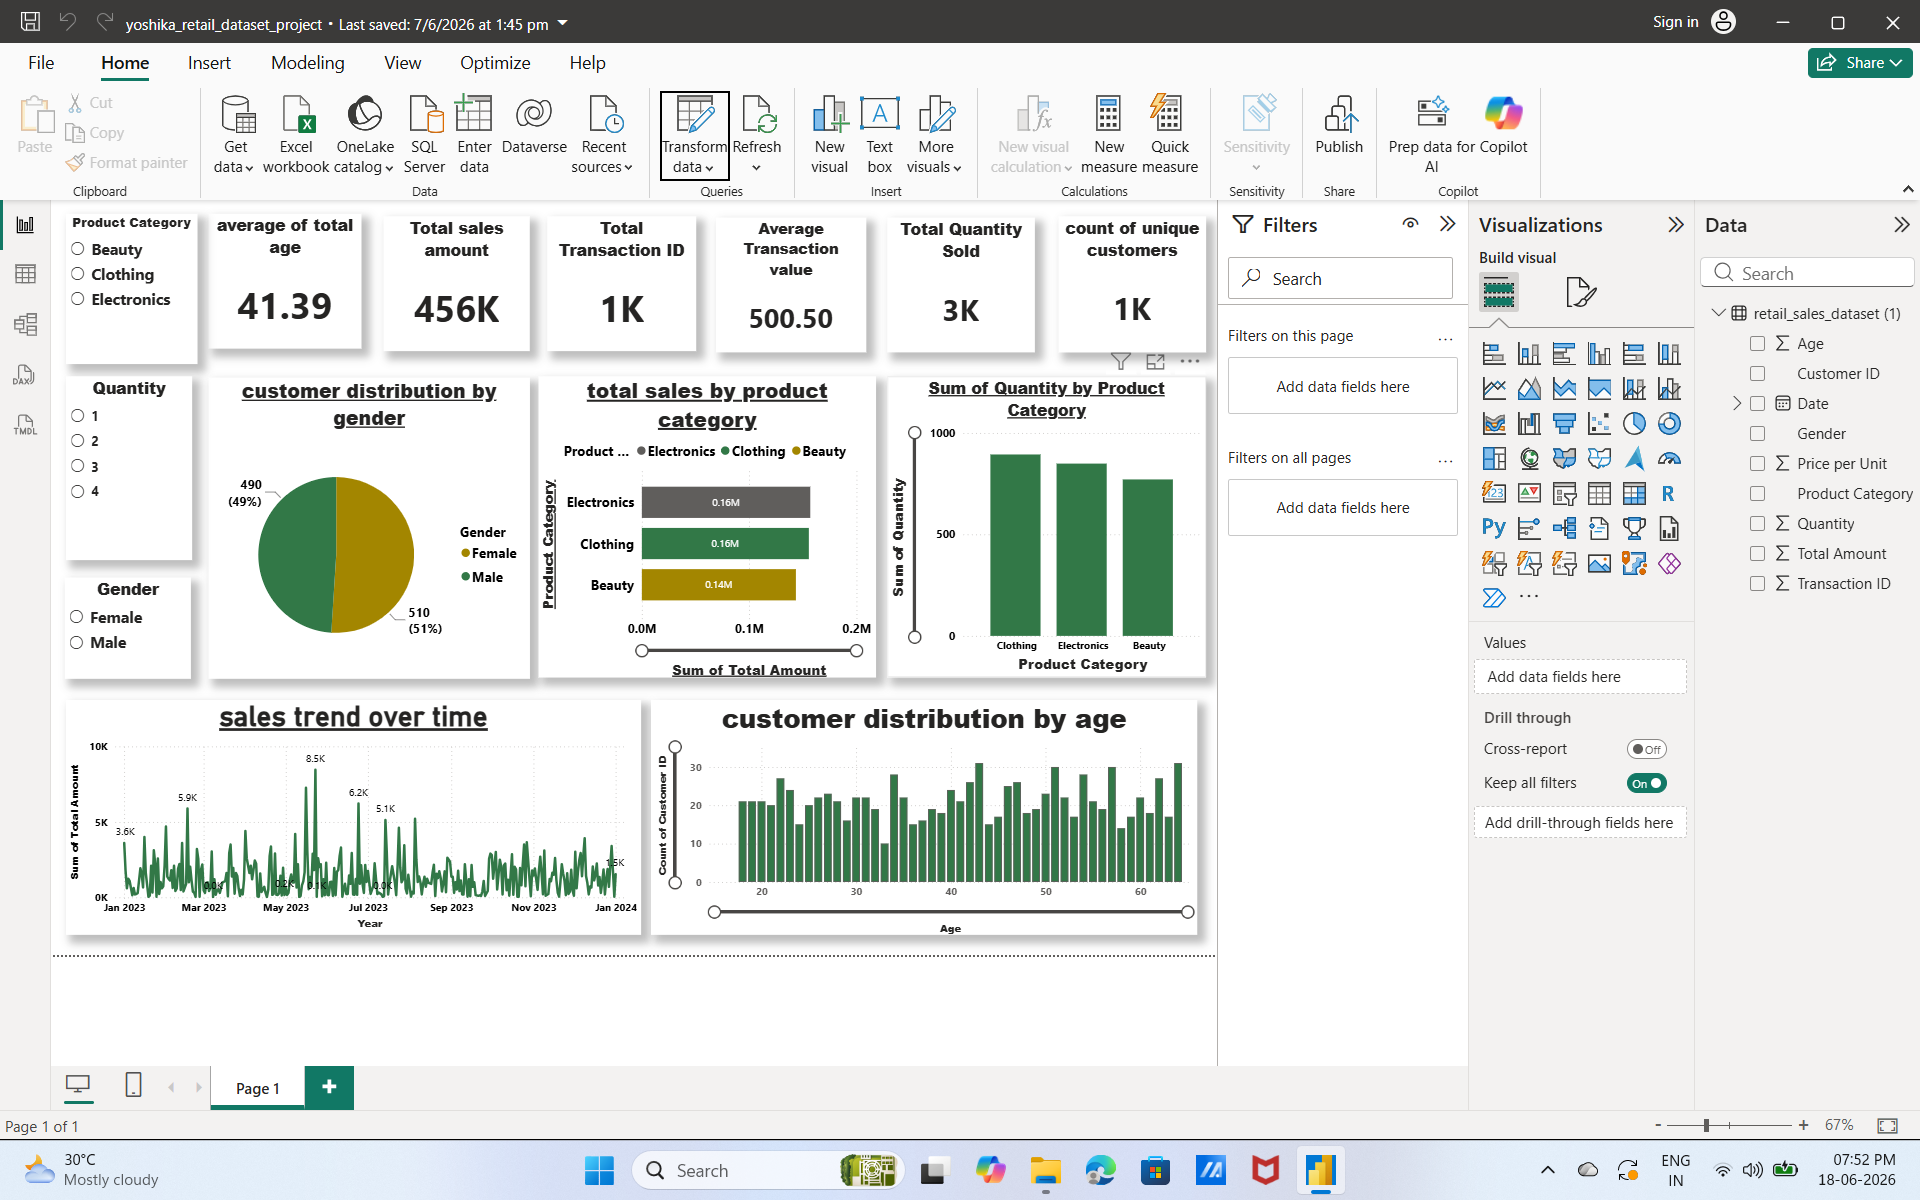

The page's visual inventory and layout, read from the dashboard file:
{"tool":"powerbi","page":{"name":"Page 1","canvas":[1390,900],"ordinal":0},"visuals":[{"type":"lineChart","title":"sales trend over time","fields":{"Y":["Sum(retail_sales_dataset (1).Total Amount)"],"Category":["retail_sales_dataset (1).Date.Variation.Date Hierarchy.Year","retail_sales_dataset (1).Date.Variation.Date Hierarchy.Quarter","retail_sales_dataset (1).Date.Variation.Date Hierarchy.Month","retail_sales_dataset (1).Date.Variation.Date Hierarchy.Day"]},"box":[17.9,596.1,685.5,280.1],"z":0},{"type":"columnChart","title":"customer distribution by age","fields":{"Category":["retail_sales_dataset (1).Age"],"Y":["CountNonNull(retail_sales_dataset (1).Customer ID)"]},"box":[715.3,596.1,651.2,280.1],"z":1000},{"type":"pieChart","title":"customer distribution by gender","fields":{"Category":["retail_sales_dataset (1).Gender"],"Y":["CountNonNull(retail_sales_dataset (1).Customer ID)"]},"box":[188,211.3,382.8,359.5],"z":2000},{"type":"barChart","title":"total sales by product category","fields":{"Category":["retail_sales_dataset (1).Product Category"],"Y":["Sum(retail_sales_dataset (1).Total Amount)"],"Series":["retail_sales_dataset (1).Product Category"]},"box":[581.2,210.1,402.3,359.1],"z":3000},{"type":"columnChart","fields":{"Category":["retail_sales_dataset (1).Product Category"],"Y":["Sum(retail_sales_dataset (1).Quantity)"]},"box":[996.9,210.1,380,359.1],"z":4000},{"type":"cardVisual","title":"average of total age","fields":{"Data":["Avg(retail_sales_dataset (1).Age)"]},"box":[188,16.5,182.5,160.5],"z":5000},{"type":"cardVisual","title":"Total sales amount","fields":{"Data":["Sum(retail_sales_dataset (1).Total Amount)"]},"box":[396.6,19.2,174.3,160.5],"z":6000},{"type":"cardVisual","title":"Total Transaction ID","fields":{"Data":["CountNonNull(retail_sales_dataset (1).Total Amount)"]},"box":[591.6,19.4,177.3,160.9],"z":7000},{"type":"cardVisual","title":"Average Transaction value","fields":{"Data":["Avg(retail_sales_dataset (1).Transaction ID)"]},"box":[792.8,20.9,178.8,160.9],"z":8000},{"type":"cardVisual","title":"Total Quantity Sold","fields":{"Data":["Sum(retail_sales_dataset (1).Quantity)"]},"box":[996.9,20.9,175.8,160.9],"z":9000},{"type":"cardVisual","title":"count of unique customers","fields":{"Data":["Count(retail_sales_dataset (1).Customer ID)"]},"box":[1201.1,19.4,175.8,162.4],"z":10000},{"type":"listSlicer","fields":{"Values":["retail_sales_dataset (1).Product Category"]},"box":[17.9,16.4,156.5,178.8],"z":10001},{"type":"listSlicer","fields":{"Values":["retail_sales_dataset (1).Quantity"]},"box":[17.9,210.1,150.5,219.1],"z":10002},{"type":"listSlicer","fields":{"Values":["retail_sales_dataset (1).Gender"]},"box":[16.4,450,150.5,120.7],"z":10003}]}

Visuals, with their boxes on the page's 1390x900 design canvas (x1, y1, x2, y2). These are canvas units, not pixel positions in the 1920x1200 screenshot, which may show the page scaled, cropped or inside an application window:
"sales trend over time" lineChart: (18, 596, 703, 876)
"customer distribution by age" columnChart: (715, 596, 1366, 876)
"customer distribution by gender" pieChart: (188, 211, 571, 571)
"total sales by product category" barChart: (581, 210, 984, 569)
columnChart - retail_sales_dataset (1).Product Category x Sum(retail_sales_dataset (1).Quantity): (997, 210, 1377, 569)
"average of total age" cardVisual: (188, 16, 370, 177)
"Total sales amount" cardVisual: (397, 19, 571, 180)
"Total Transaction ID" cardVisual: (592, 19, 769, 180)
"Average Transaction value" cardVisual: (793, 21, 972, 182)
"Total Quantity Sold" cardVisual: (997, 21, 1173, 182)
"count of unique customers" cardVisual: (1201, 19, 1377, 182)
listSlicer - retail_sales_dataset (1).Product Category: (18, 16, 174, 195)
listSlicer - retail_sales_dataset (1).Quantity: (18, 210, 168, 429)
listSlicer - retail_sales_dataset (1).Gender: (16, 450, 167, 571)
